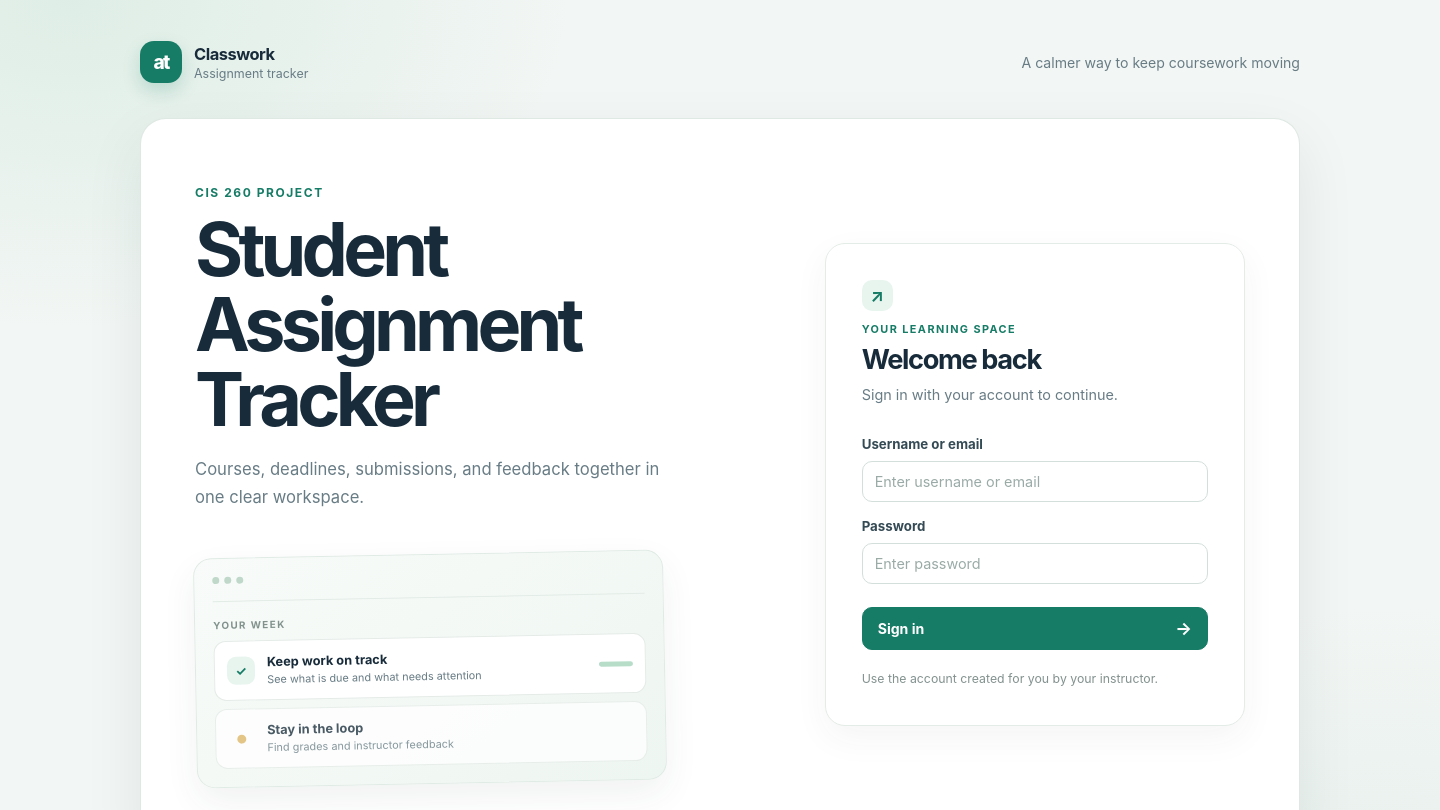
signs in and renders the student workspace
Type "sam@example.com" into the field labelled "Username or email" at (1035,482), box [862,461,1208,502]
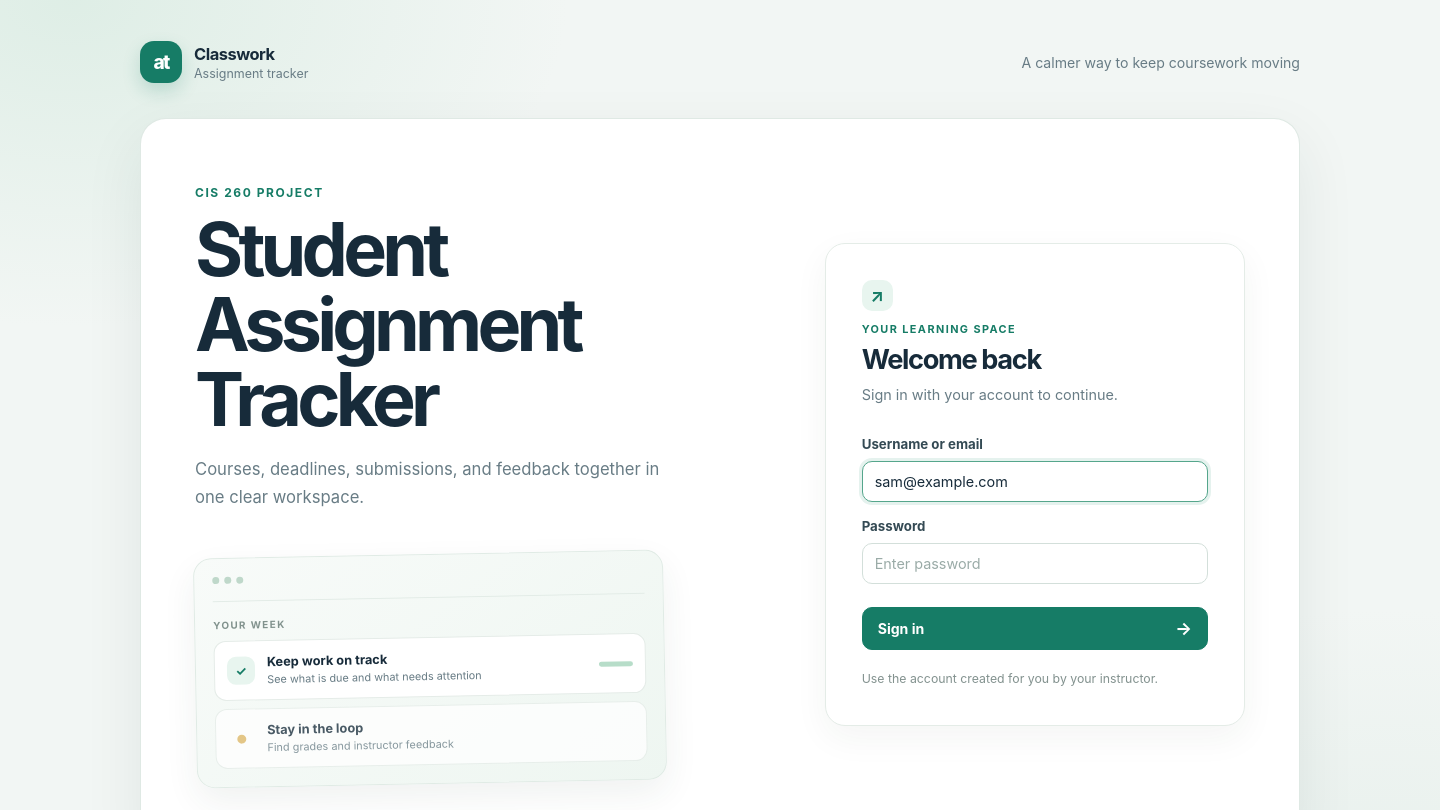
Type "secret" into the password field labelled "Password" at (1035,564), box [862,543,1208,584]
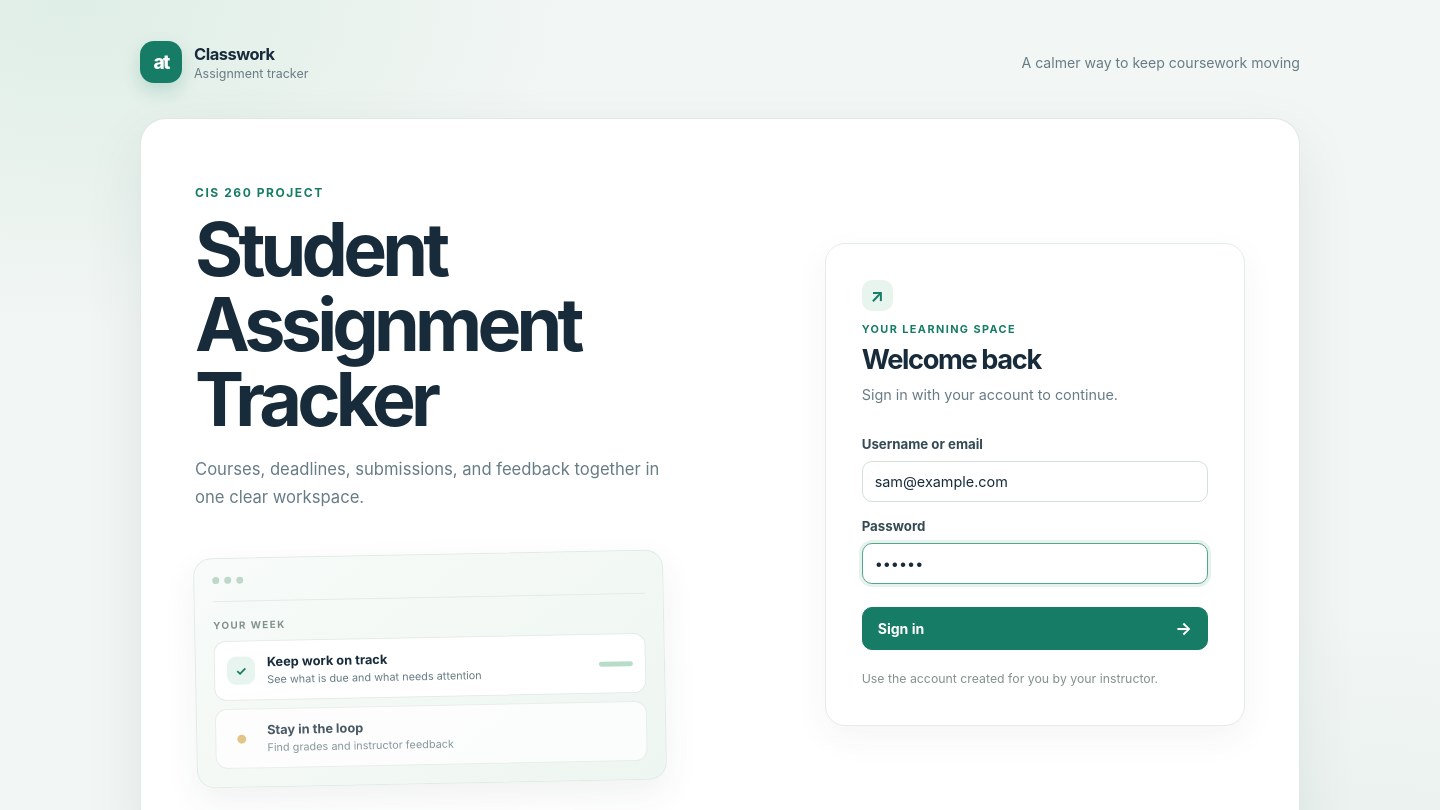
Click the button "Sign in →" at (901,629), box [862,607,1208,650]
(page scrolled)
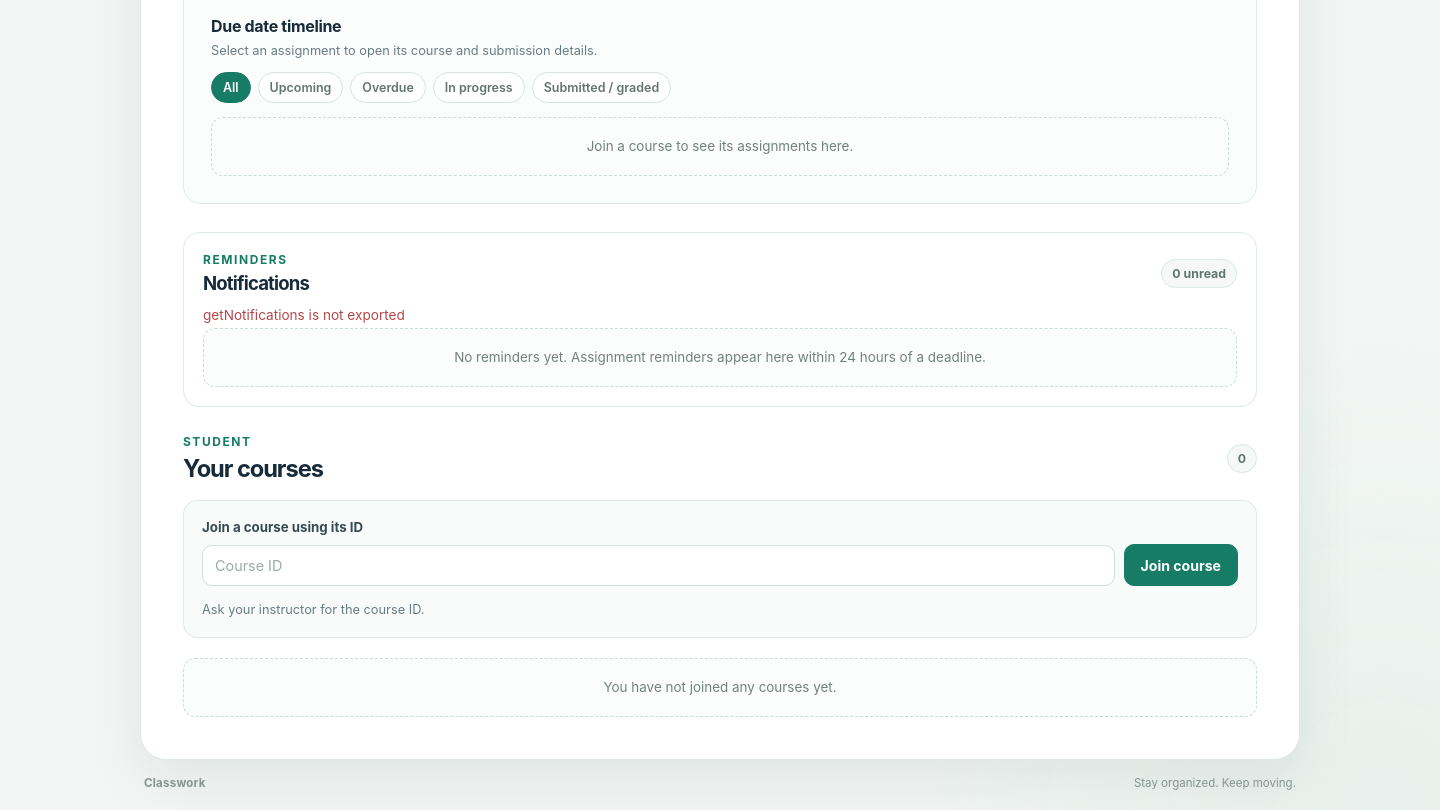
Now the button "Join course" is shown, box [1124,544,1238,586]
